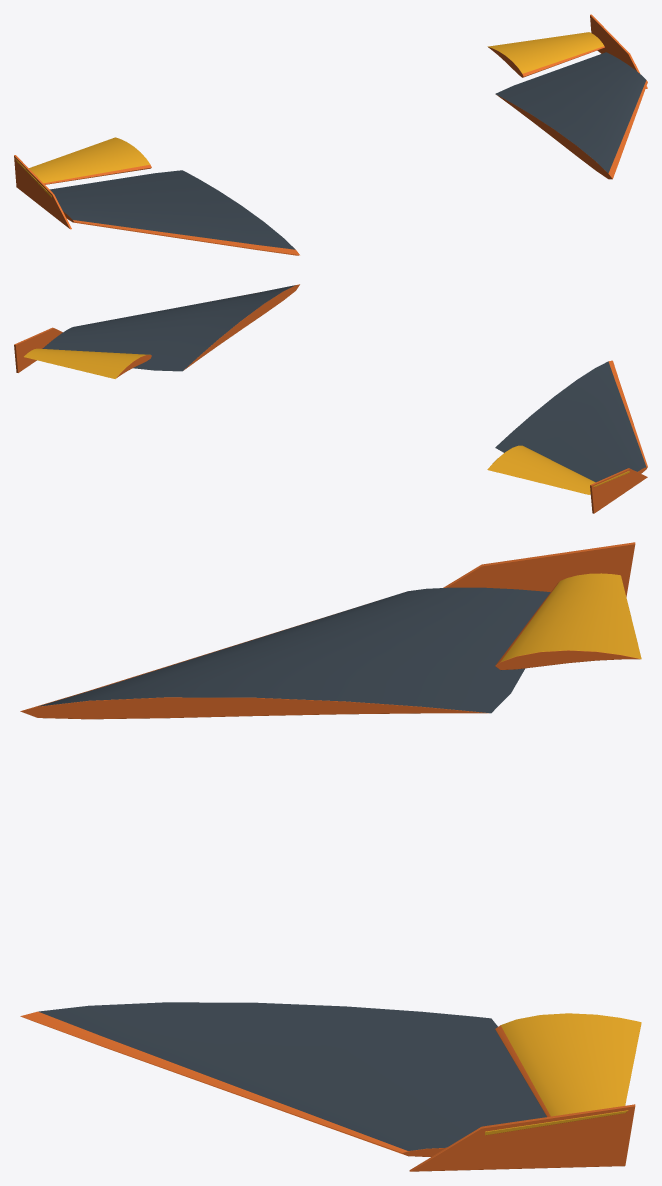
File: bastion_wing_ep.fbx
The picture shows the model from 3 angles, top to bottom: view 1: azimuth 30°, elevation 25°; view 2: azimuth 150°, elevation 25°; view 3: azimuth 270°, elevation 25°; orthographic projection. The views are drawn at different scales.
Visible parts, largest first — view 1: Wing_Slotted_L, Wing_Slotted_R; view 2: Wing_Slotted_L, Wing_Slotted_R; view 3: Wing_Slotted_R, Wing_Slotted_L.
Part boxes in pixels (box(x1,y1,x2,y2)): Wing_Slotted_L: box(14, 137, 299, 255); Wing_Slotted_R: box(487, 14, 647, 179); Wing_Slotted_L: box(487, 360, 647, 513); Wing_Slotted_R: box(14, 284, 299, 378); Wing_Slotted_R: box(20, 1002, 641, 1171); Wing_Slotted_L: box(20, 542, 641, 719).
Size of the model in its own units: 437 by 23.76 by 203.
